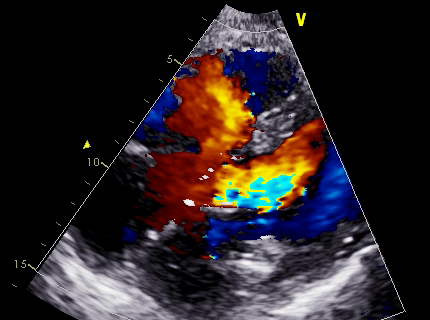TR: (149, 158, 221, 231)
